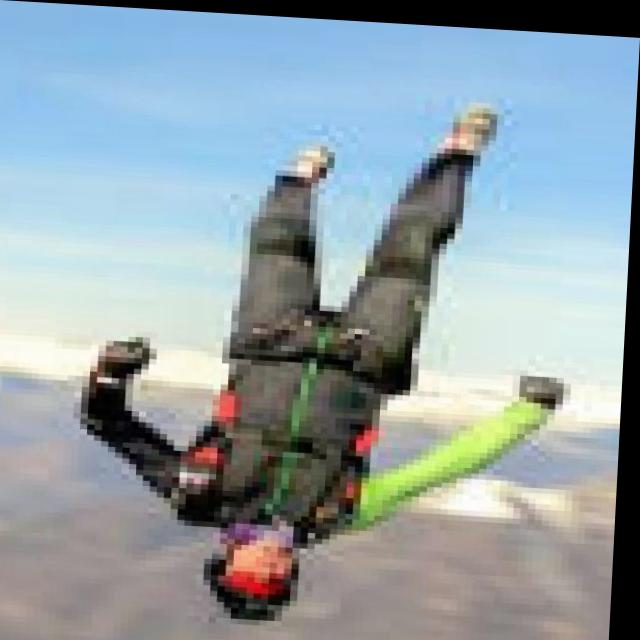fall: (72, 74, 592, 630)
